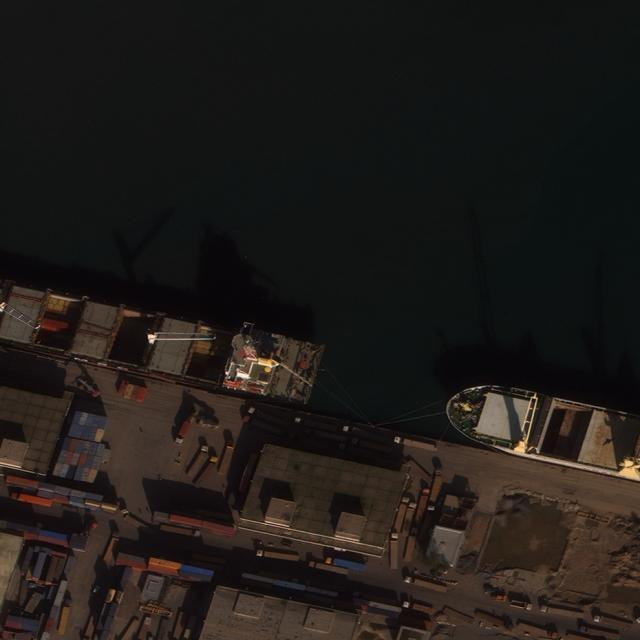Cargo: (2, 281, 328, 406), (445, 377, 640, 484)
